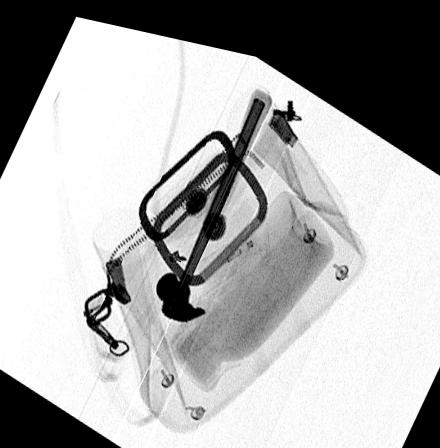Hammer: (155, 75, 272, 315)
